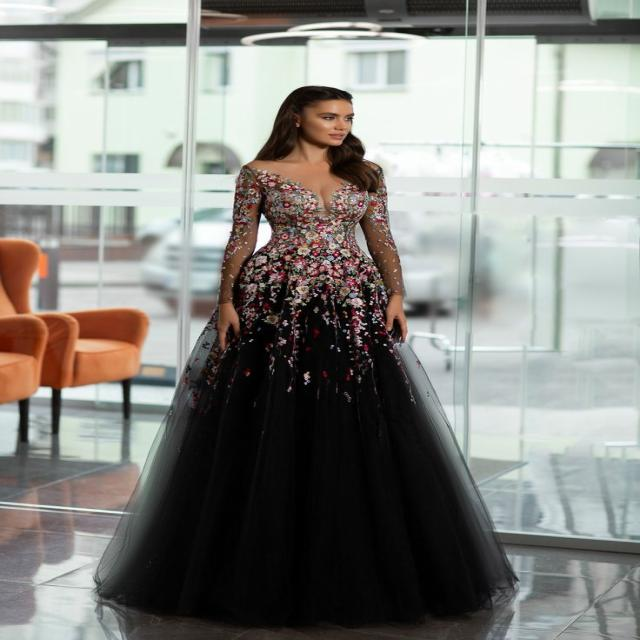female-dress: (148, 159, 503, 636), (219, 164, 417, 342)
